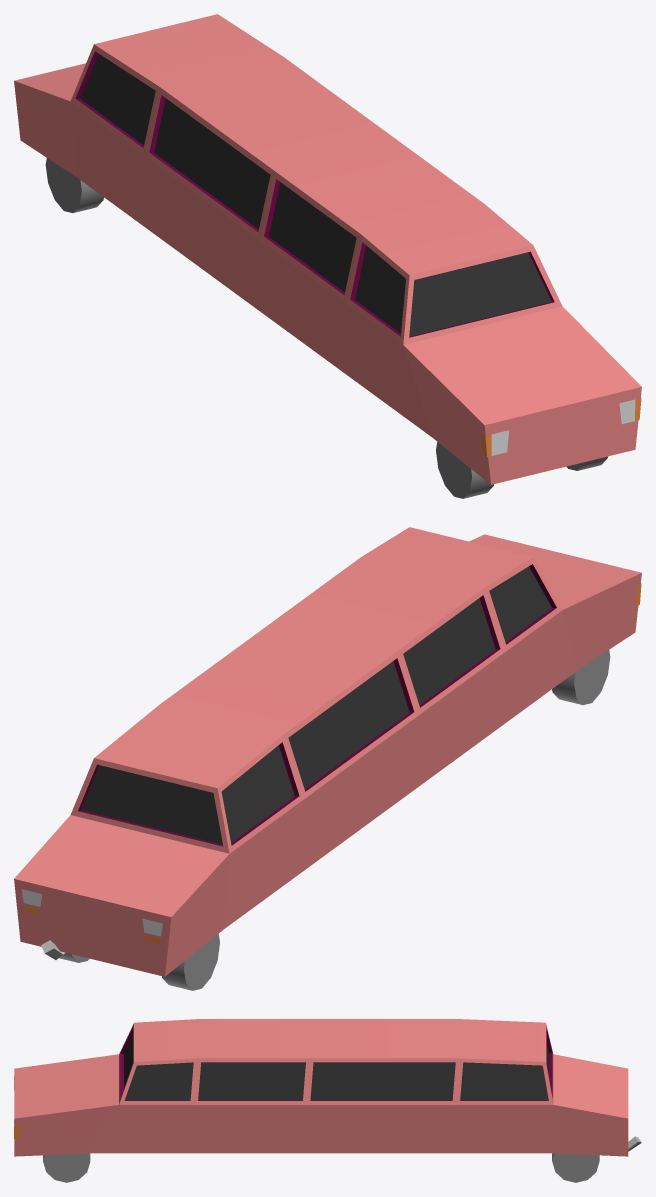
The model's file is limo_10.fbx.
The picture shows the model from 3 angles, top to bottom: view 1: azimuth 30°, elevation 25°; view 2: azimuth 150°, elevation 25°; view 3: azimuth 270°, elevation 25°; orthographic projection. The views are drawn at different scales.
Visible parts, largest first — view 1: limo_10; view 2: limo_10; view 3: limo_10.
Boxes of the visible parts, box(x1,y1,x2,y2) form: limo_10: box(14, 14, 641, 498); limo_10: box(14, 527, 641, 990); limo_10: box(14, 1019, 641, 1182).
Bounding box in the file's own units: 1.6 × 1.8 × 8.39.
